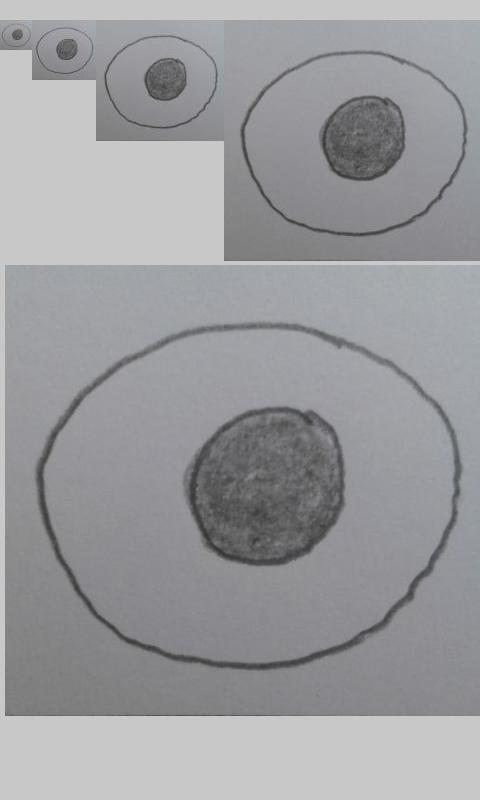radio_button: (34, 317, 462, 672), (237, 45, 469, 241), (103, 34, 219, 130), (35, 26, 95, 75), (1, 22, 32, 48)
